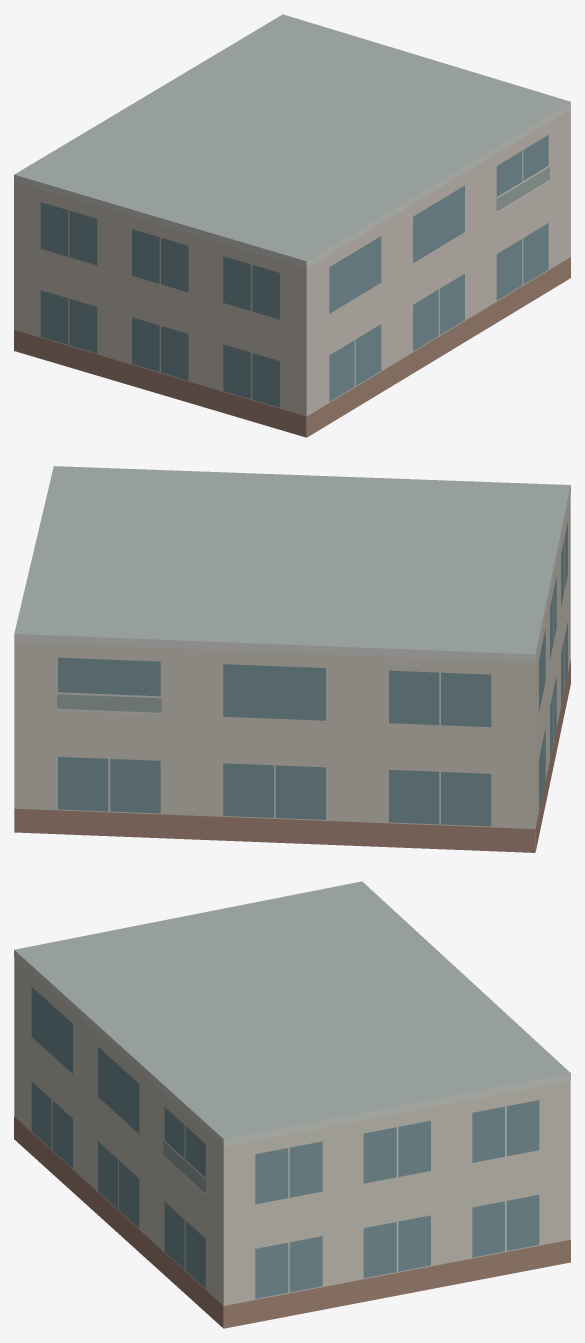
The model's file is survey-upis-32853786.glb.
The picture shows the model from 3 angles, top to bottom: view 1: azimuth 30°, elevation 25°; view 2: azimuth 150°, elevation 25°; view 3: azimuth 270°, elevation 25°; orthographic projection. The views are drawn at different scales.
Parts seen in each view (by area): view 1: survey-upis-32853786.tmp; view 2: survey-upis-32853786.tmp; view 3: survey-upis-32853786.tmp.
Part boxes in pixels (<box>): survey-upis-32853786.tmp: <box>14,14,570,437</box>; survey-upis-32853786.tmp: <box>14,466,570,852</box>; survey-upis-32853786.tmp: <box>14,881,570,1328</box>.
Size of the model in its own units: 17.84 by 6.1 by 16.26.
